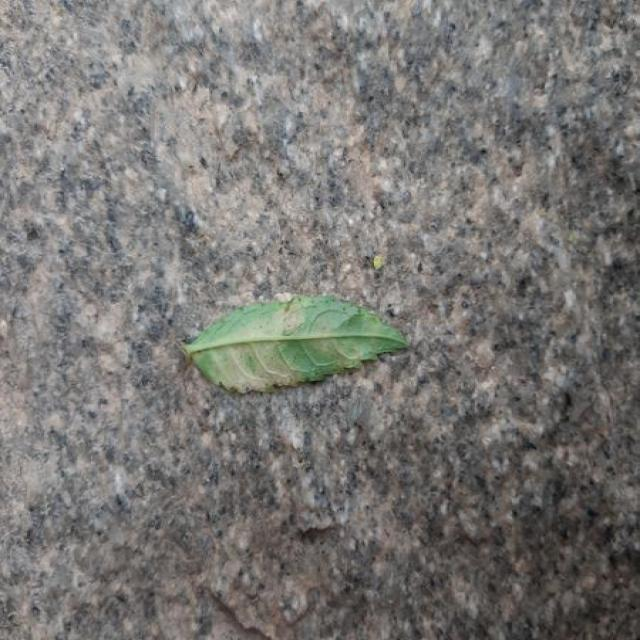marigold: (183, 295, 408, 392)
